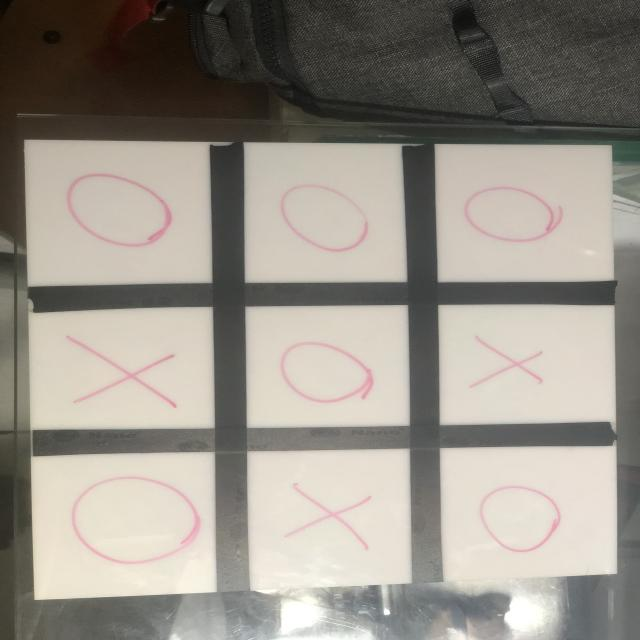o: (67, 469, 205, 572), (63, 172, 174, 248), (271, 339, 385, 409), (463, 179, 564, 251), (279, 178, 369, 256), (475, 483, 567, 559)
table: (24, 133, 617, 602)
x: (67, 330, 179, 410), (276, 483, 383, 557), (467, 330, 550, 393)
